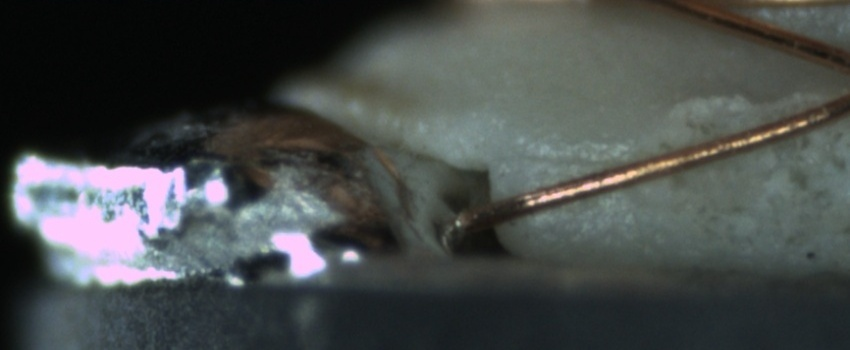DL: (515, 128, 644, 187)
